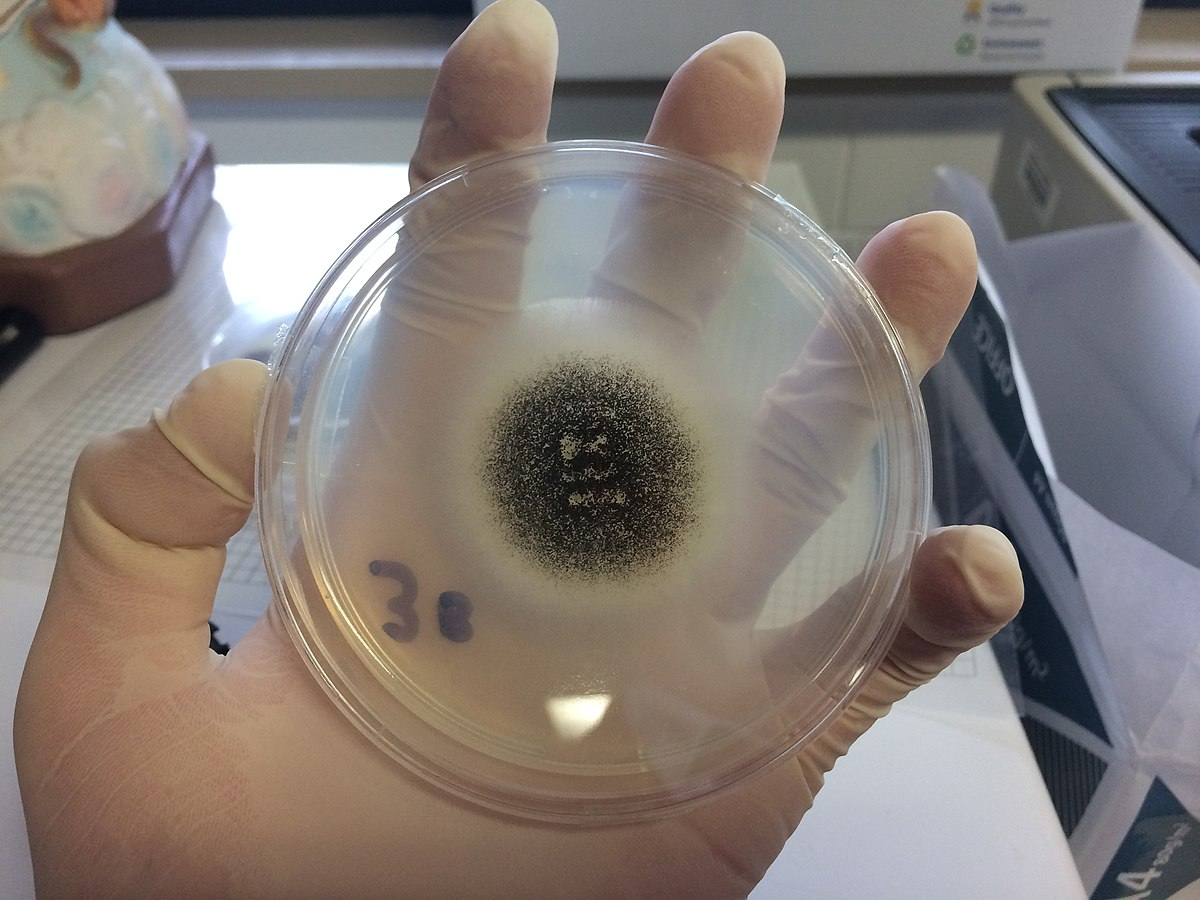Aspergillus: (484, 369, 692, 574)
